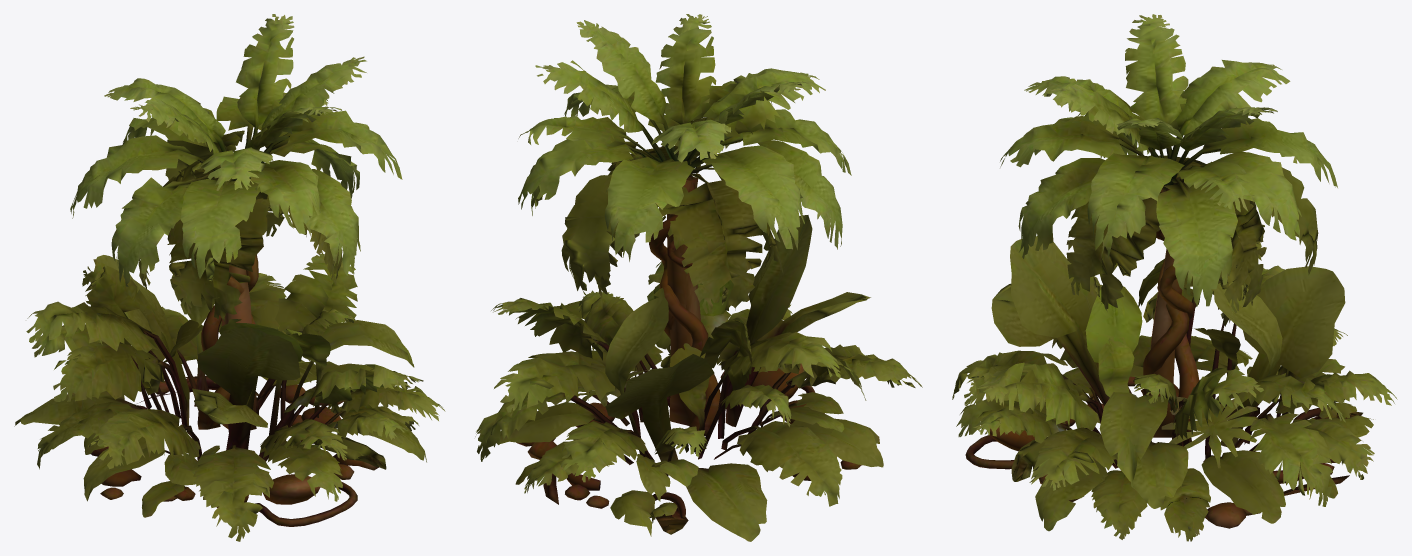
The model's file is jun_fern_cluster_low_LOD0.glb.
3 renders of one model, left to right at view 1: azimuth 30°, elevation 25°; view 2: azimuth 150°, elevation 25°; view 3: azimuth 270°, elevation 25°, orthographic. The views are drawn at different scales.
Parts seen in each view (by area): view 1: tripo_node_f26c364c-f640-4782-969d-d89758f2ef56; view 2: tripo_node_f26c364c-f640-4782-969d-d89758f2ef56; view 3: tripo_node_f26c364c-f640-4782-969d-d89758f2ef56.
Boxes of the visible parts, <box> form: tripo_node_f26c364c-f640-4782-969d-d89758f2ef56: <box>14,14,445,541</box>; tripo_node_f26c364c-f640-4782-969d-d89758f2ef56: <box>475,14,922,541</box>; tripo_node_f26c364c-f640-4782-969d-d89758f2ef56: <box>952,14,1397,541</box>.
Bounding box in the file's own units: 0.9473 × 0.9941 × 0.998.
Materials: 1 (1 with a texture image).
